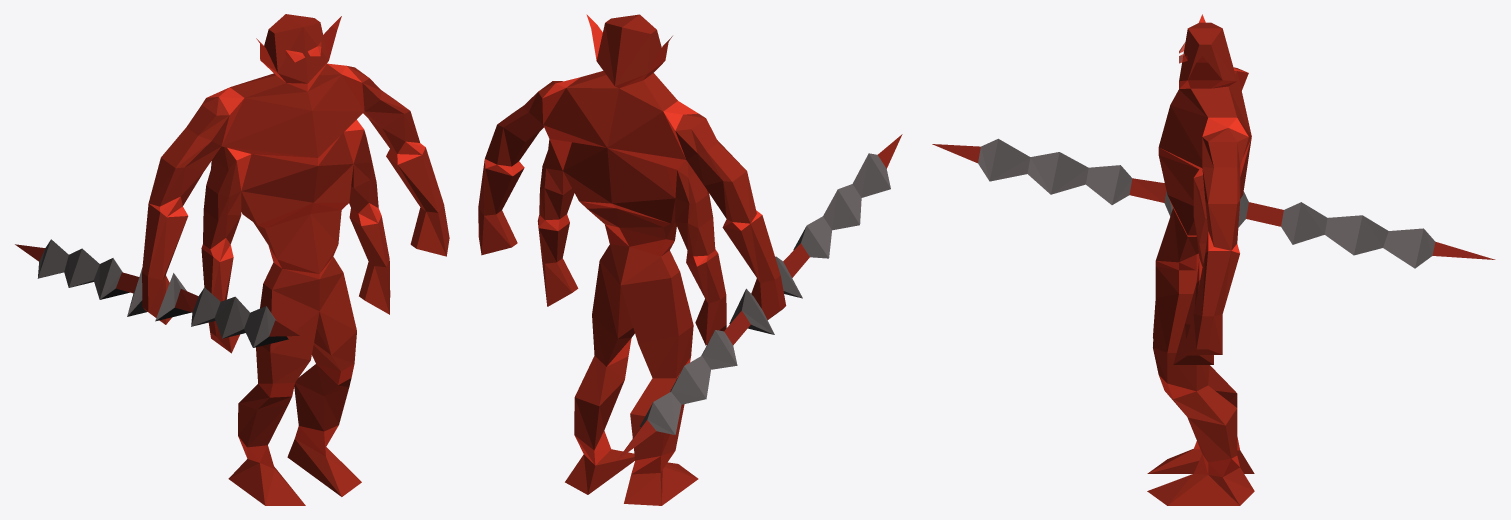
File: tzhaar-fight-pit.gltf
The picture shows the model from 3 angles, left to right: view 1: azimuth 30°, elevation 25°; view 2: azimuth 150°, elevation 25°; view 3: azimuth 270°, elevation 25°; orthographic projection.
Bounding box in the file's own units: 120 × 172 × 194.
Materials: 2 (2 with a texture image).
